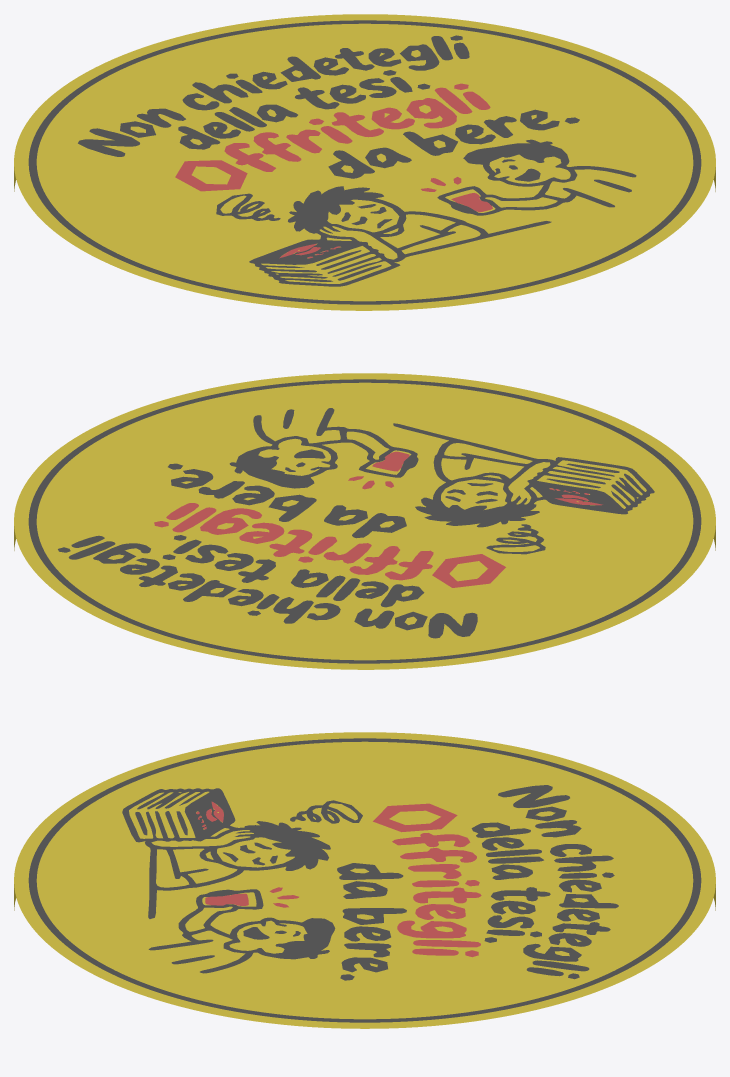
The model's file is sottobicchiere-non-chiedete-tesi.glb.
The picture shows the model from 3 angles, top to bottom: view 1: azimuth 30°, elevation 25°; view 2: azimuth 150°, elevation 25°; view 3: azimuth 270°, elevation 25°; orthographic projection.
Visible parts, largest first — view 1: coaster_base, coaster_ink, coaster_accent; view 2: coaster_base, coaster_ink, coaster_accent; view 3: coaster_base, coaster_ink, coaster_accent.
Part boxes in pixels (x1,y1,x2,y2): coaster_base: (14, 14, 715, 310); coaster_ink: (28, 20, 701, 304); coaster_accent: (175, 83, 492, 258); coaster_base: (14, 373, 715, 669); coaster_ink: (28, 379, 701, 663); coaster_accent: (154, 451, 602, 587); coaster_base: (14, 732, 715, 1028); coaster_ink: (28, 738, 701, 1022); coaster_accent: (196, 801, 481, 957).
Size of the model in its own units: 0.075 by 0.004 by 0.075.
